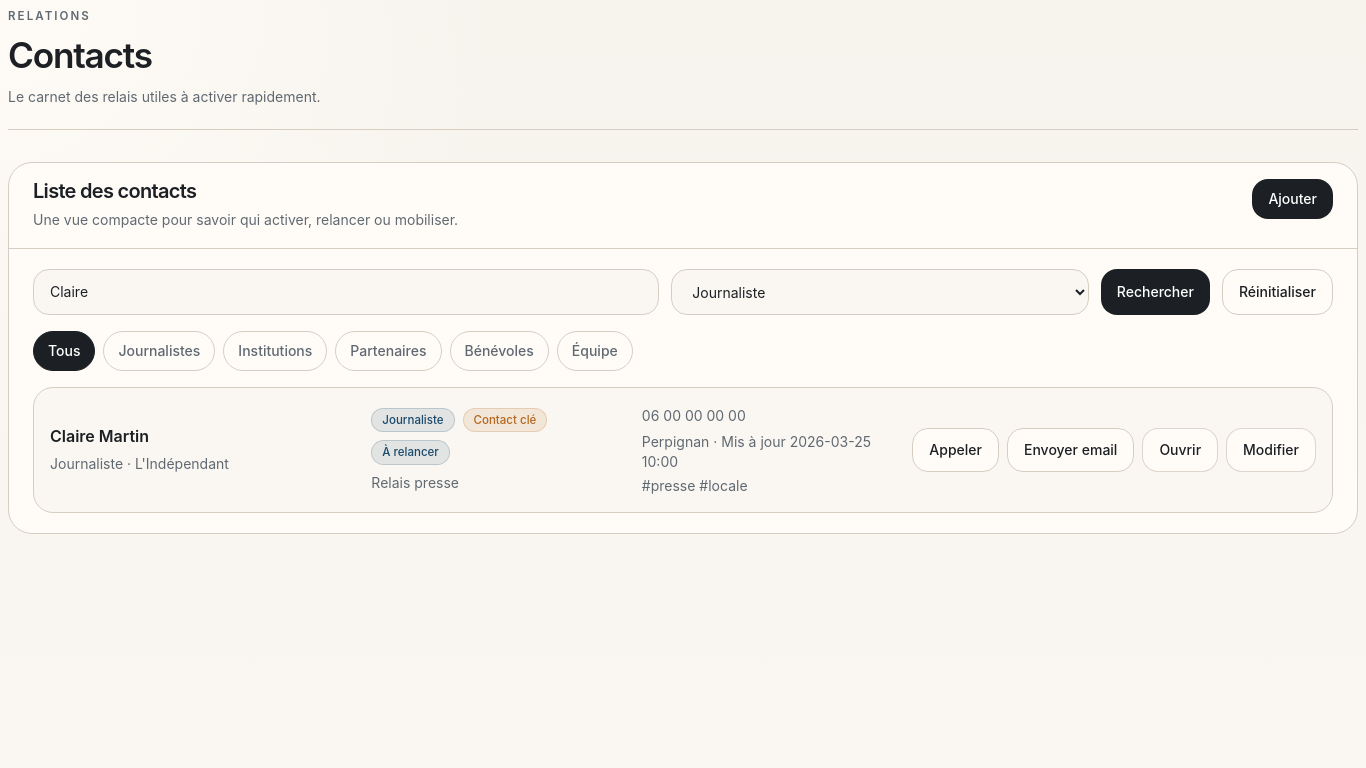
ContactsPage › affiche une liste compacte orientée activation et ouvre le détail
The width and height of the screenshot is (1366, 768).
expect the heading "Contacts" is shown: met, box [8,34,152,76]
expect the heading "Liste des contacts" is shown: met, box [33,179,196,203]
Click the button "Ouvrir" at (1180, 450), box [1142,428,1218,472]
(page scrolled)
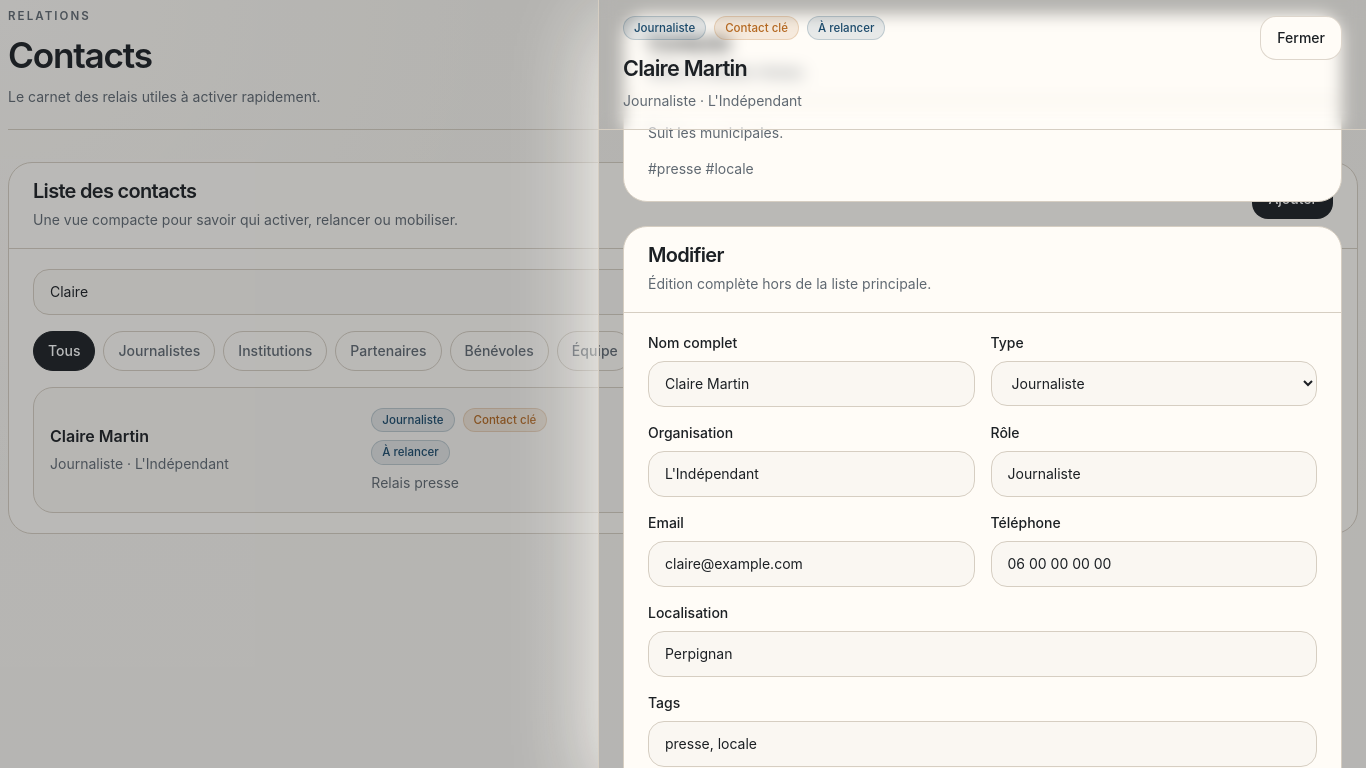
expect the heading "Claire Martin" is shown: met, box [623,55,747,81]
expect the text "Suit les municipales." is shown: met, box [648,124,783,141]
expect the field showing "Claire Martin" is shown: met, box [648,361,974,407]
